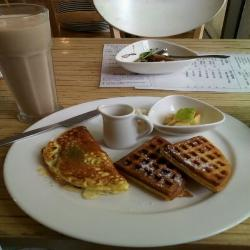omelette: (41, 125, 130, 199)
